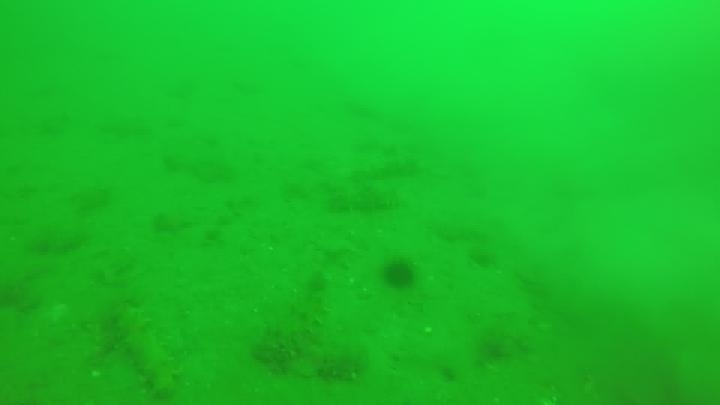echinus: (380, 258, 418, 292)
holothurian: (251, 271, 333, 362), (109, 303, 181, 399), (340, 151, 422, 185), (326, 184, 403, 216), (313, 347, 368, 384)
